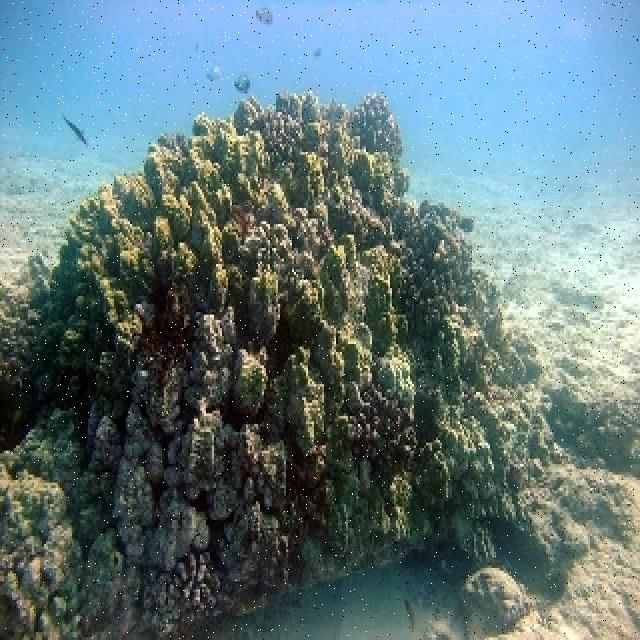reefs: (0, 88, 592, 637), (0, 409, 138, 637)
